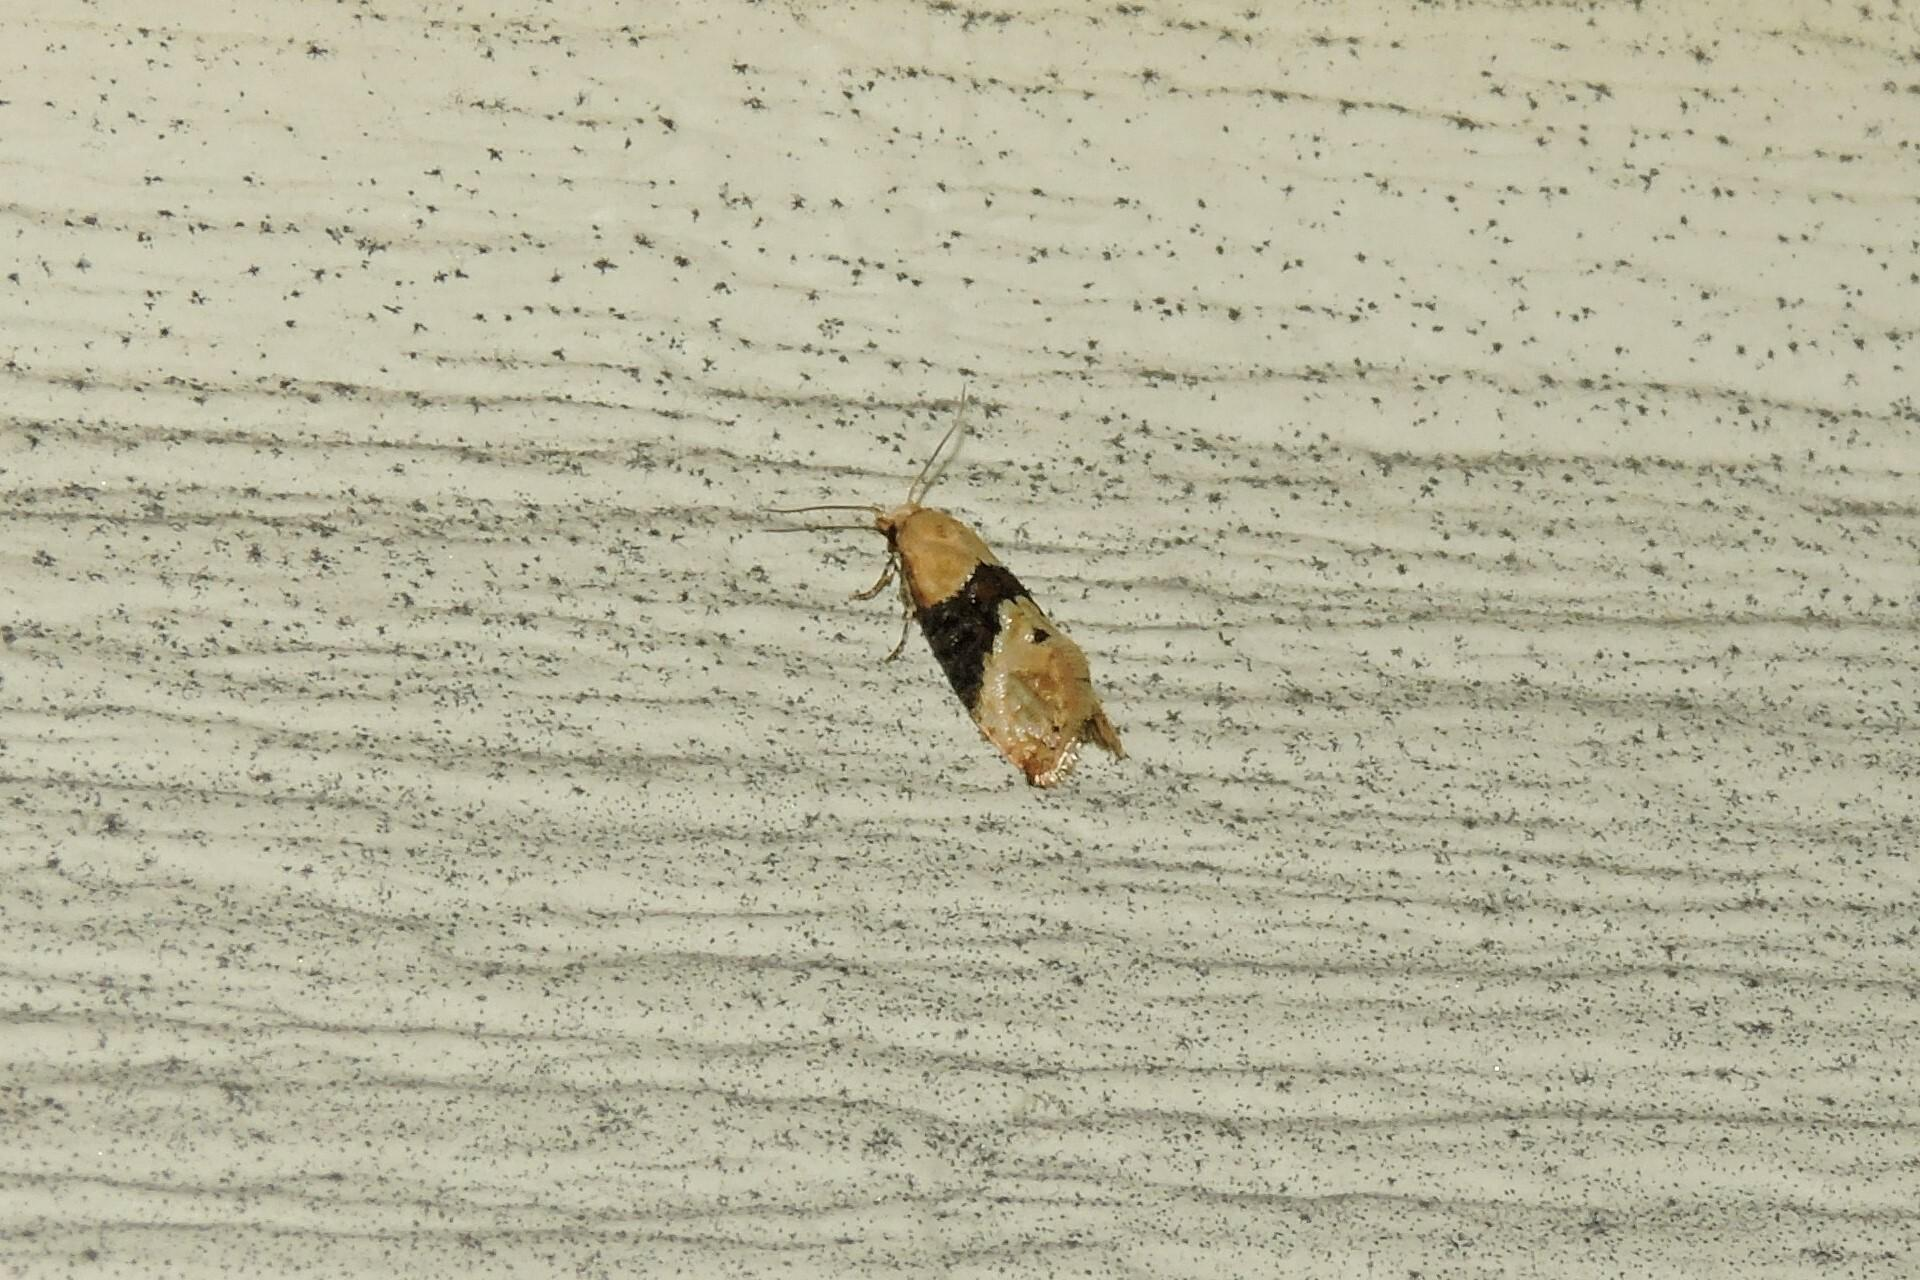Eupoecilia Ambiguella: (766, 379, 1131, 794)
